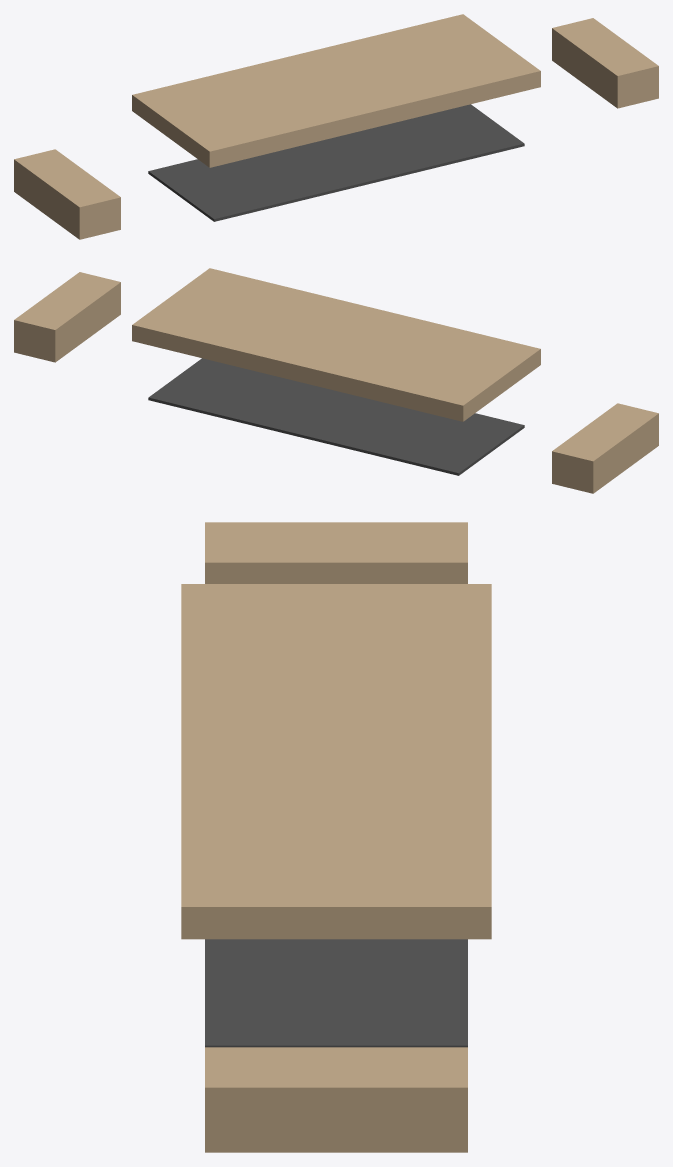
The model's file is p2s_monitor_stand.glb.
The picture shows the model from 3 angles, top to bottom: view 1: azimuth 30°, elevation 25°; view 2: azimuth 150°, elevation 25°; view 3: azimuth 270°, elevation 25°; orthographic projection. The views are drawn at different scales.
Visible parts, largest first — view 1: TopSlab, Pad, Leg_1, Leg_2; view 2: TopSlab, Pad, Leg_1, Leg_2; view 3: TopSlab, Pad, Leg_2, Leg_1.
Part boxes in pixels (bbox=[...]): TopSlab: bbox=[132, 14, 540, 167]; Pad: bbox=[148, 104, 524, 221]; Leg_1: bbox=[14, 149, 120, 239]; Leg_2: bbox=[552, 18, 658, 108]; TopSlab: bbox=[132, 268, 540, 421]; Pad: bbox=[148, 358, 524, 475]; Leg_1: bbox=[552, 403, 658, 493]; Leg_2: bbox=[14, 272, 120, 362]; TopSlab: bbox=[181, 584, 491, 939]; Pad: bbox=[205, 939, 467, 1047]; Leg_2: bbox=[205, 1047, 467, 1152]; Leg_1: bbox=[205, 522, 467, 583].
Size of the model in its own units: 0.56 by 0.0712 by 0.13.
